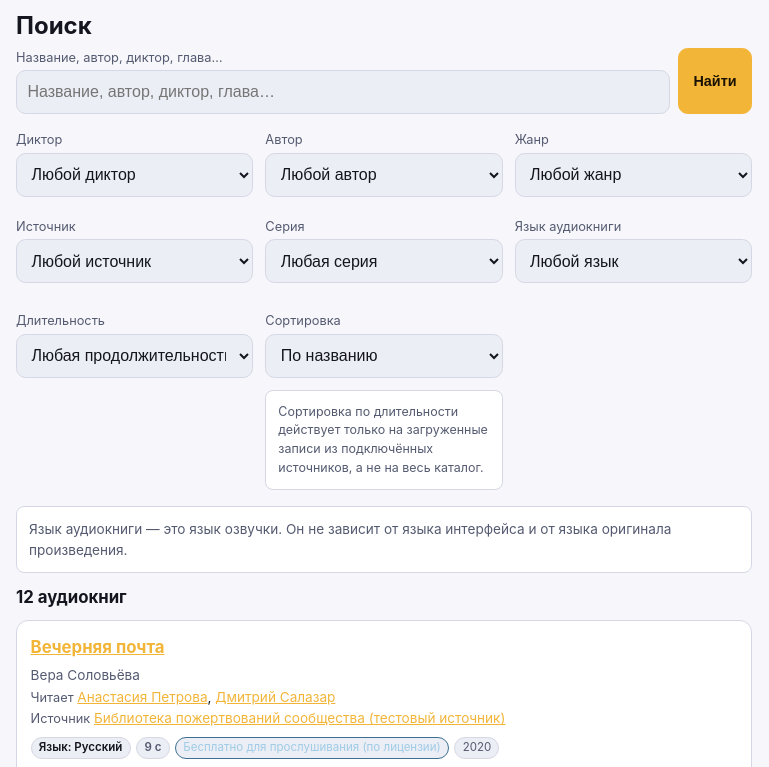
Test: duration filter › activates a resettable filter when a preset is chosen
This screenshot has width=769, height=767.
Select "До 15 минут" in the dropdown labelled "Длительность" at (135, 356), box [16,334,253,378]
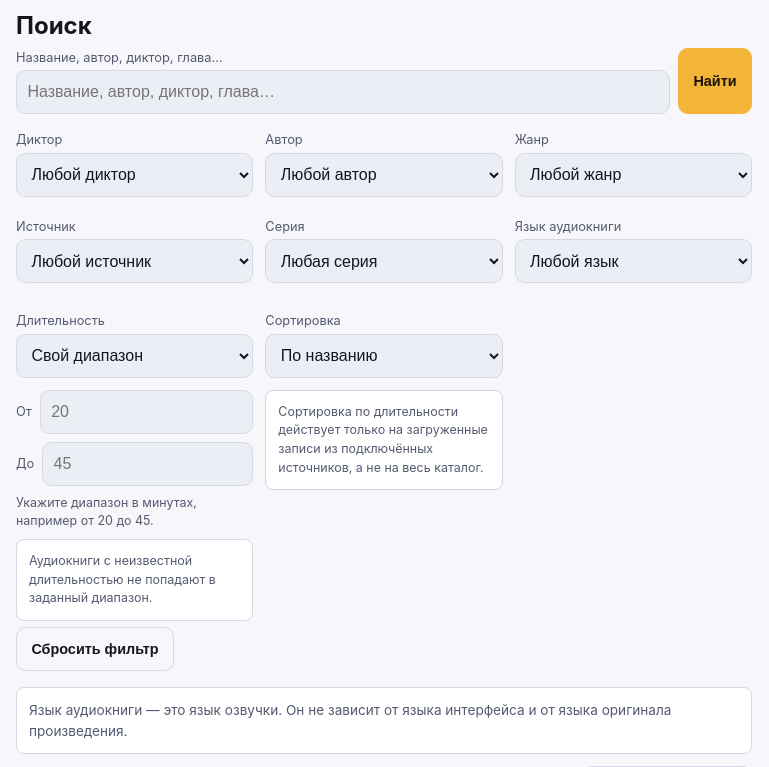
Result: the button "Сбросить фильтр" is shown at [16,628,174,672]
